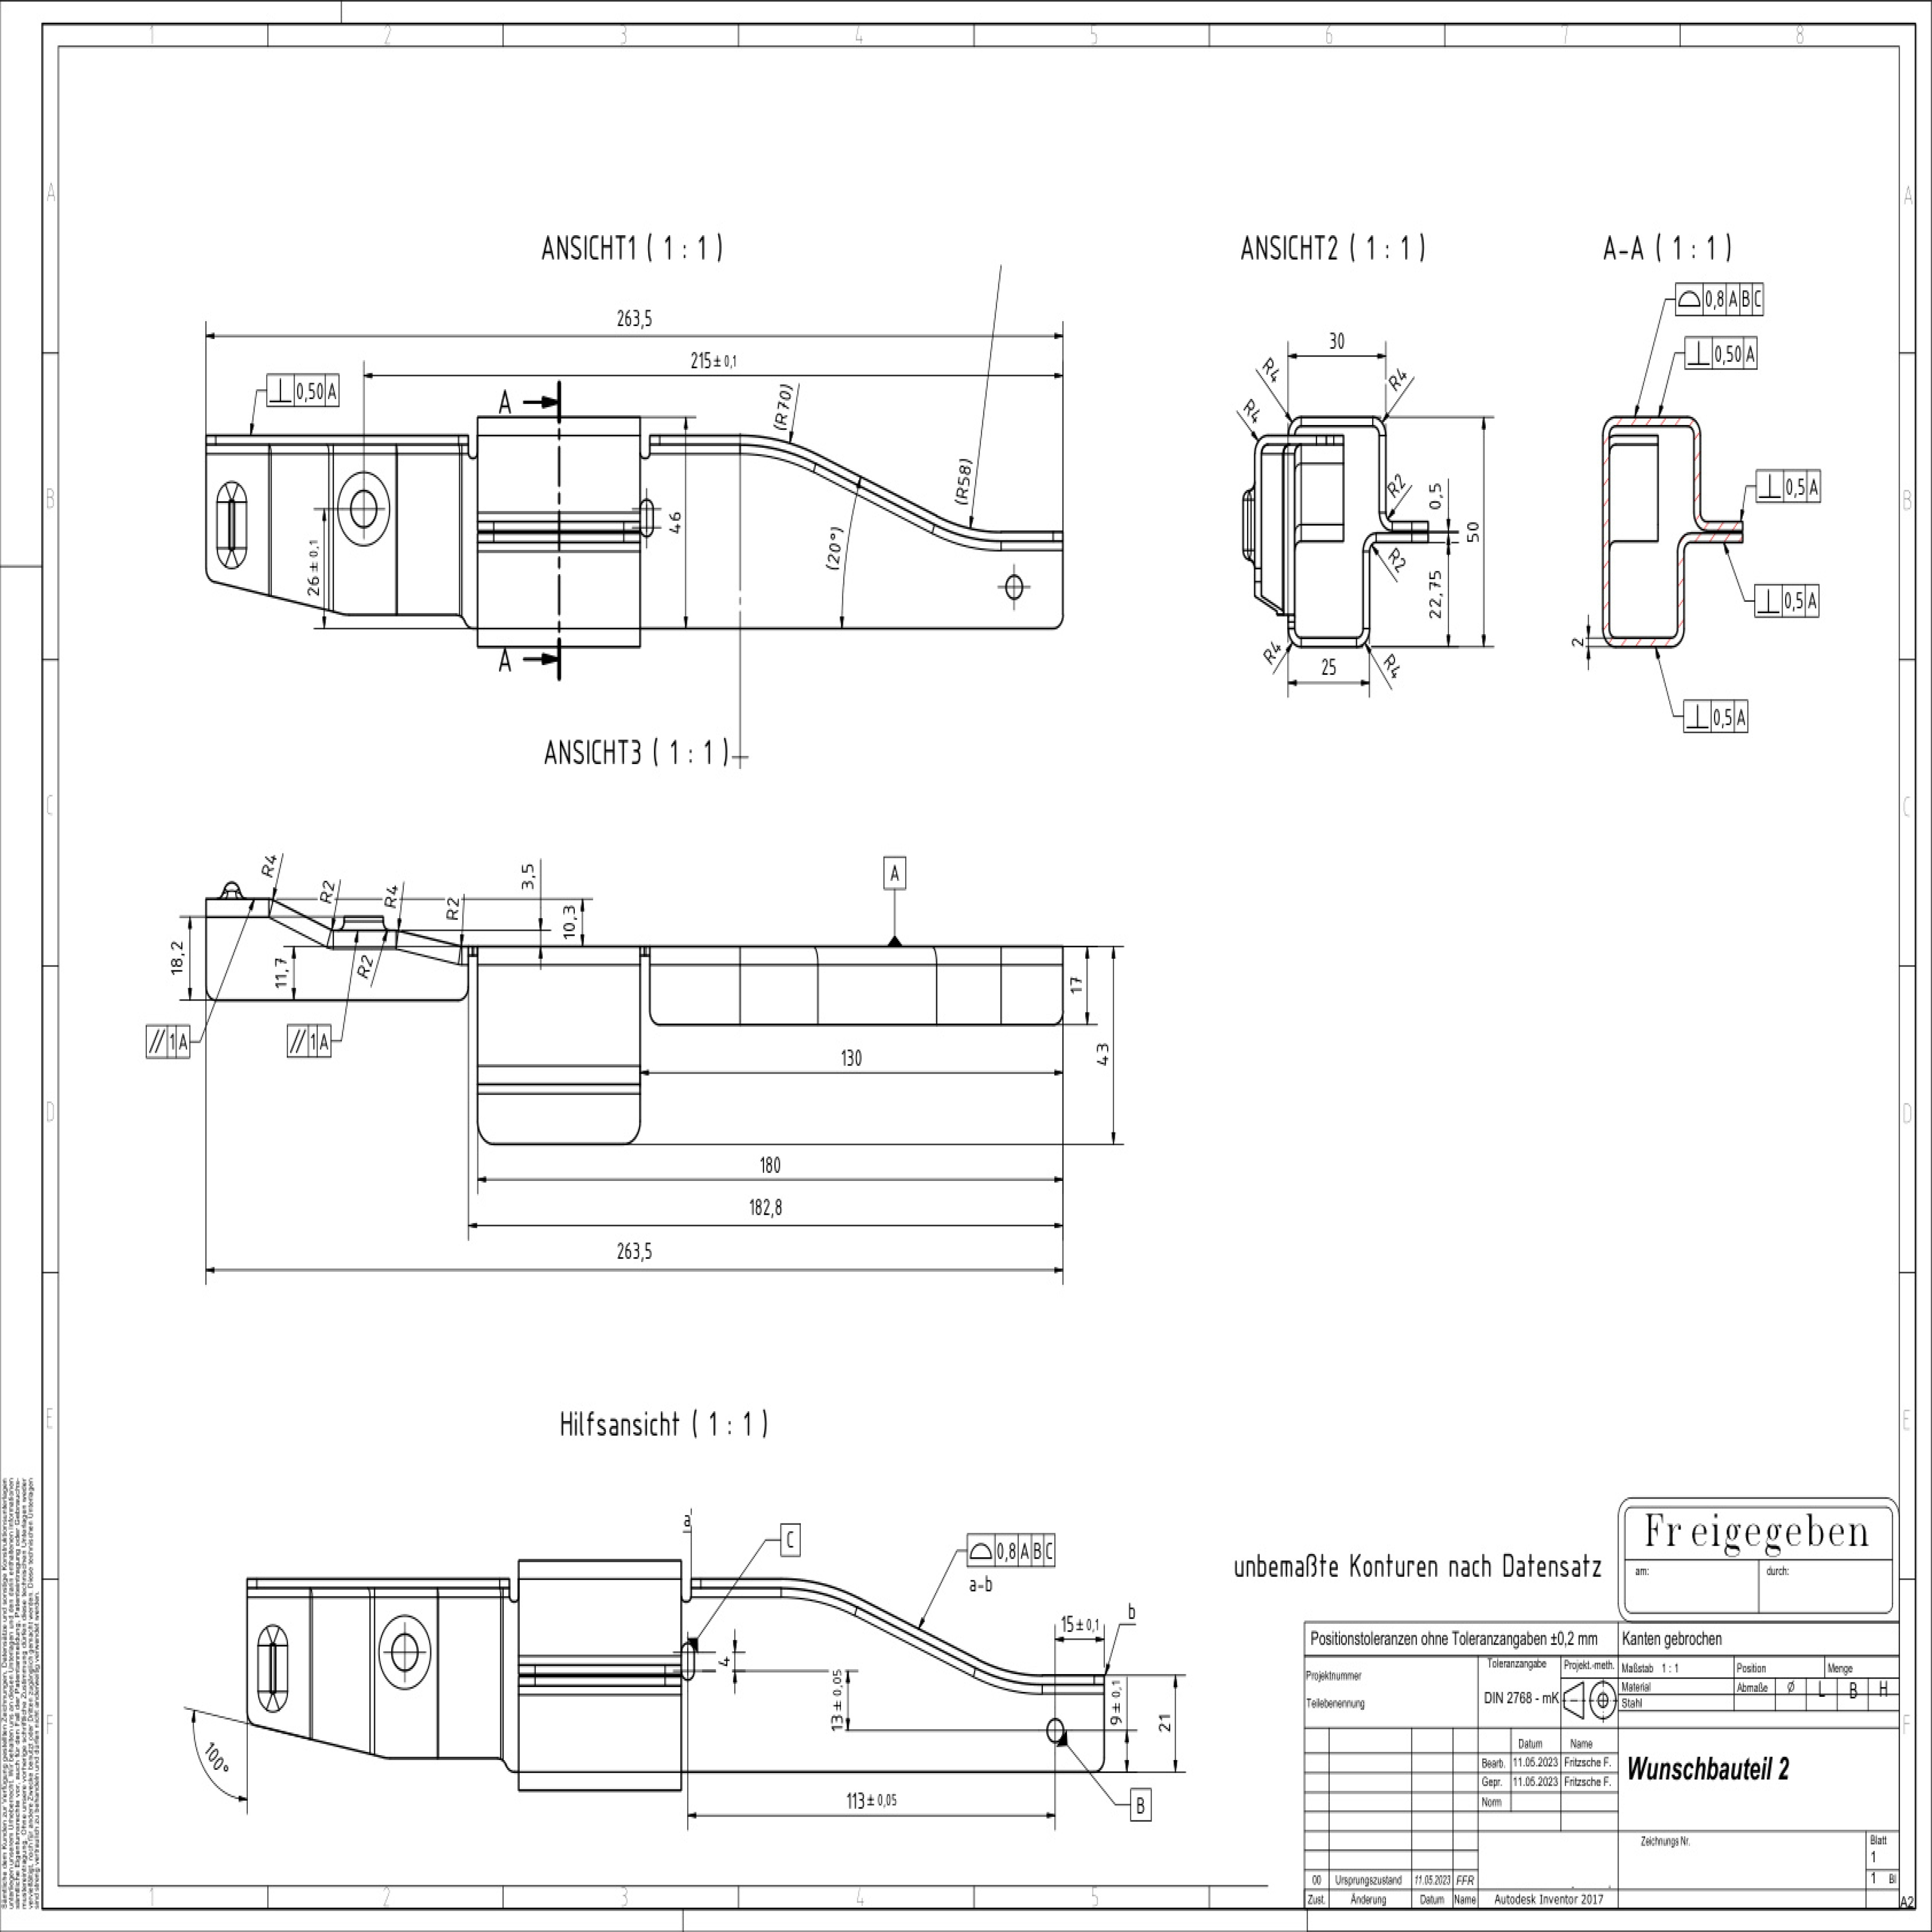3dBending: (682, 1538, 1115, 1719), (637, 401, 1072, 576)
BendingEdge: (517, 1654, 682, 1697), (478, 510, 639, 552), (478, 1060, 637, 1097), (517, 1558, 679, 1583), (518, 1769, 682, 1792), (479, 416, 638, 439), (478, 946, 637, 968), (477, 625, 640, 645), (498, 1598, 506, 1759), (369, 1591, 377, 1753), (308, 1597, 314, 1739), (436, 1598, 440, 1757), (265, 896, 274, 917), (456, 947, 466, 966), (393, 930, 403, 948), (327, 931, 335, 948)
BendingEdgeCurve: (1367, 504, 1397, 529), (1281, 629, 1307, 651), (1358, 534, 1383, 552), (1350, 631, 1374, 649), (1373, 412, 1388, 437), (1287, 415, 1308, 432)
Embossment: (255, 1622, 292, 1715), (214, 479, 249, 571), (217, 878, 245, 898)
InnerContour: (680, 1640, 698, 1682), (638, 497, 656, 540), (1002, 573, 1025, 602), (1045, 1716, 1066, 1746)
ThroughHole: (378, 1611, 432, 1692), (331, 471, 389, 546)
ThroughHoleExternal: (1240, 489, 1259, 565), (337, 913, 392, 932)
